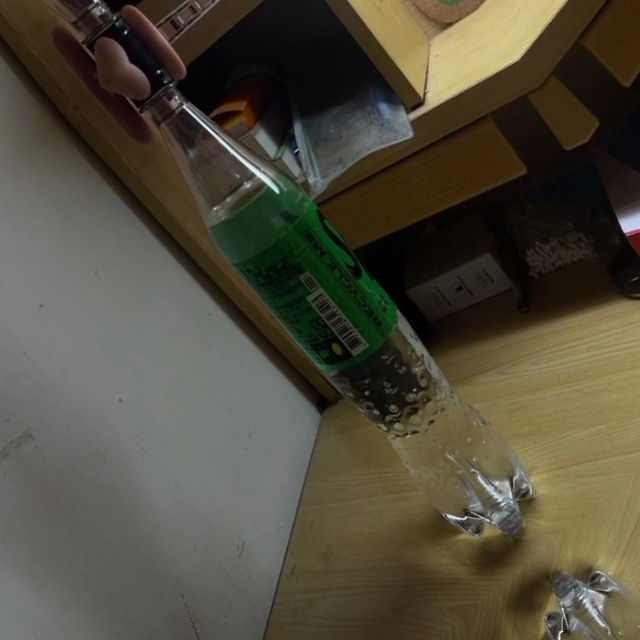Sprite: (88, 30, 565, 570)
